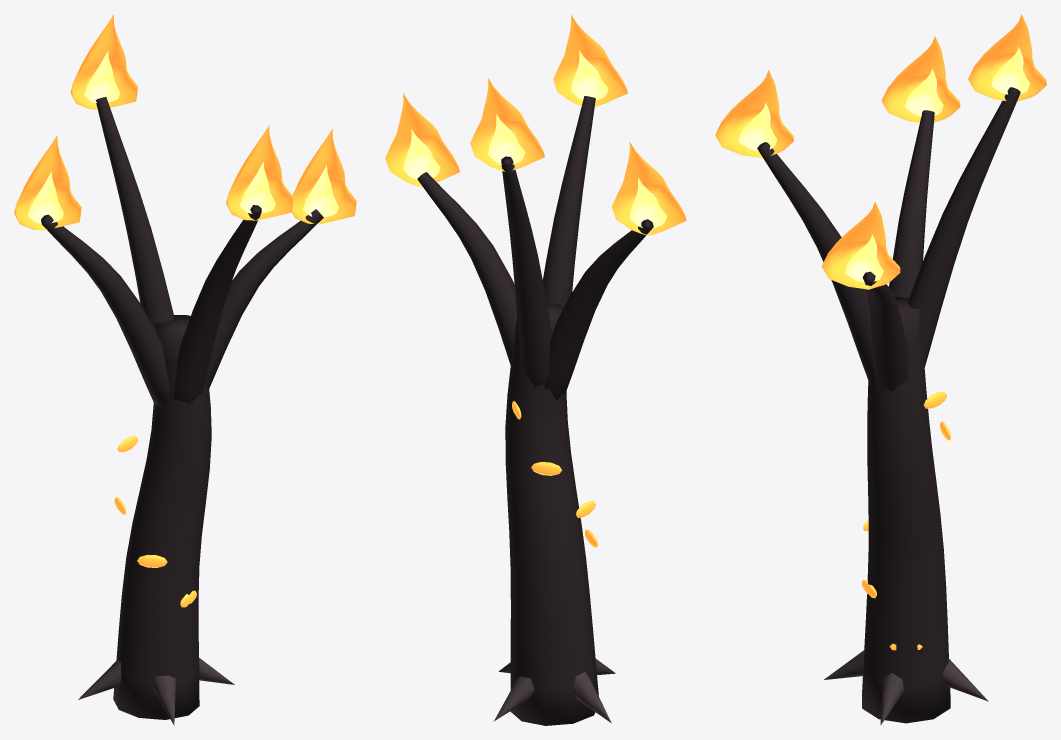
File: TreeEmber.glb
The picture shows the model from 3 angles, left to right: view 1: azimuth 30°, elevation 25°; view 2: azimuth 150°, elevation 25°; view 3: azimuth 270°, elevation 25°; orthographic projection. The views are drawn at different scales.
Parts seen in each view (by area): view 1: Body, Glow, GlowCore; view 2: Body, Glow, GlowCore; view 3: Body, Glow, GlowCore.
Part boxes in pixels (x1,y1,x2,y2): Body: (41,97,323,725); Glow: (14,14,356,607); GlowCore: (27,51,338,223); Body: (417,96,653,725); Glow: (385,14,686,547); GlowCore: (403,50,666,228); Body: (757,87,1020,725); Glow: (715,14,1046,650); GlowCore: (738,47,1030,282).
Size of the model in its own units: 5.74 by 11.53 by 4.99.
3 materials, 1 textured.
